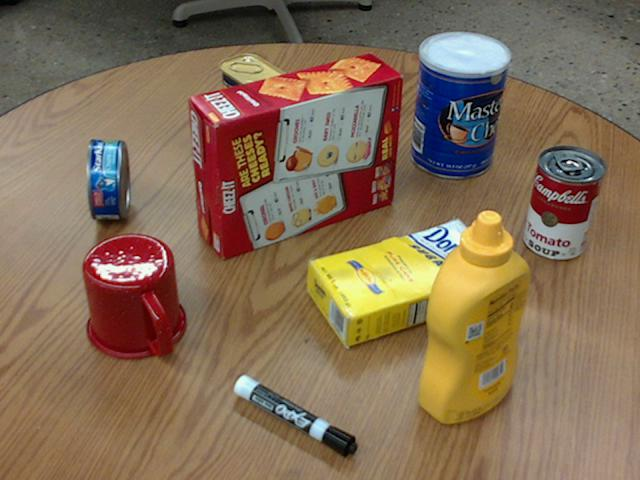cracker_box: (188, 52, 400, 258)
gelatin_box: (316, 69, 396, 123)
large_marker: (233, 375, 356, 456)
master_chef_can: (410, 31, 509, 177)
mug: (83, 233, 186, 358)
mustard_bottle: (419, 210, 529, 423)
potted_meat_can: (219, 53, 294, 148)
sugar_box: (306, 221, 507, 345)
tomato_soup_can: (525, 145, 605, 259)
tuna_fish_can: (88, 140, 128, 219)
